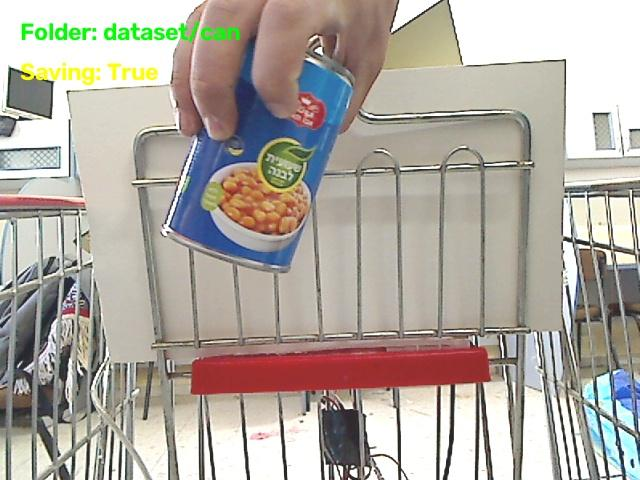can: (163, 44, 352, 271)
